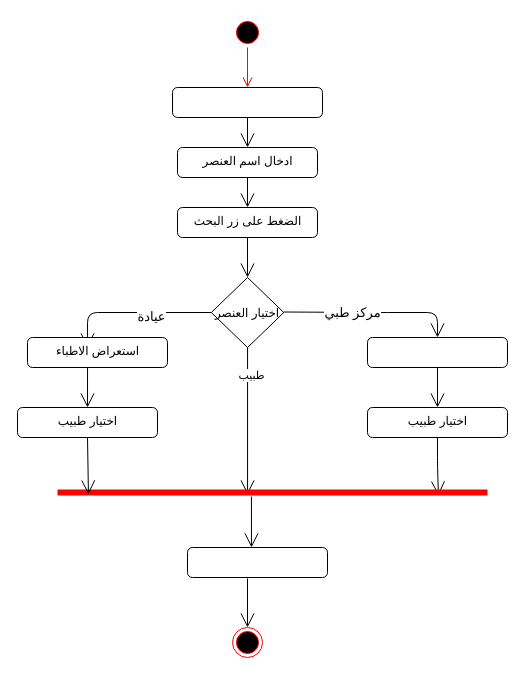
The diagram is 525 pixels wide and 675 high, and some of its shapes have lost their labels. Each missing label, with the centre of its shape:
"اختيار نوع العنصر المراد البحث عنه" belongs at (247,102).
"استعراض الاقسام" belongs at (437,352).
"لستعراض معلومات الطبيب" belongs at (257,562).
